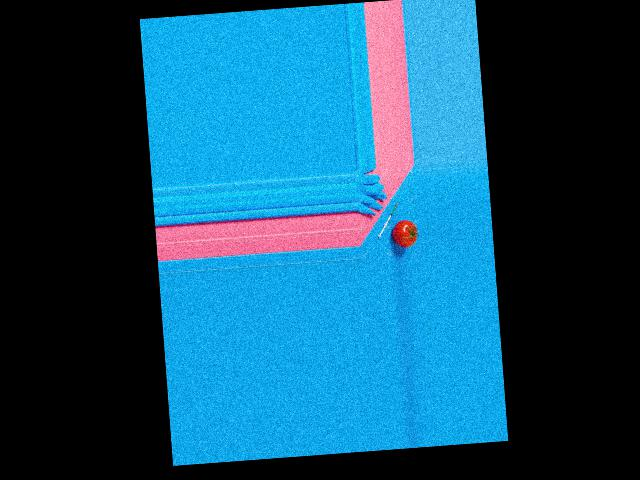tomato: (391, 219, 417, 247)
